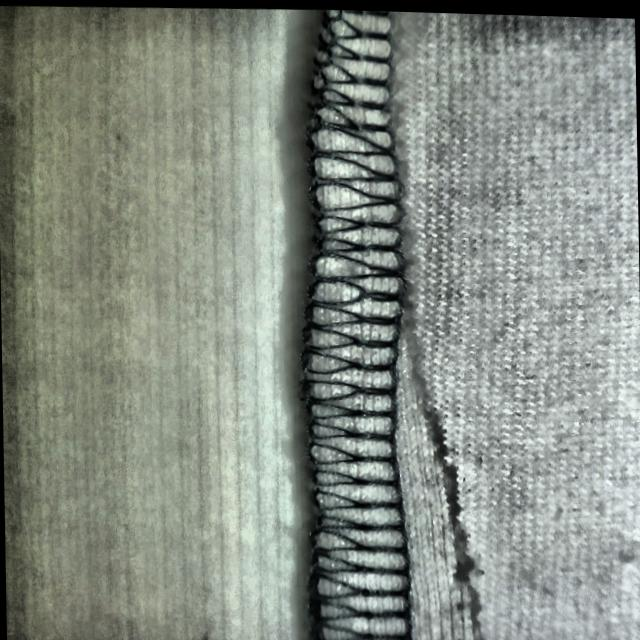seam: (299, 358, 524, 640)
